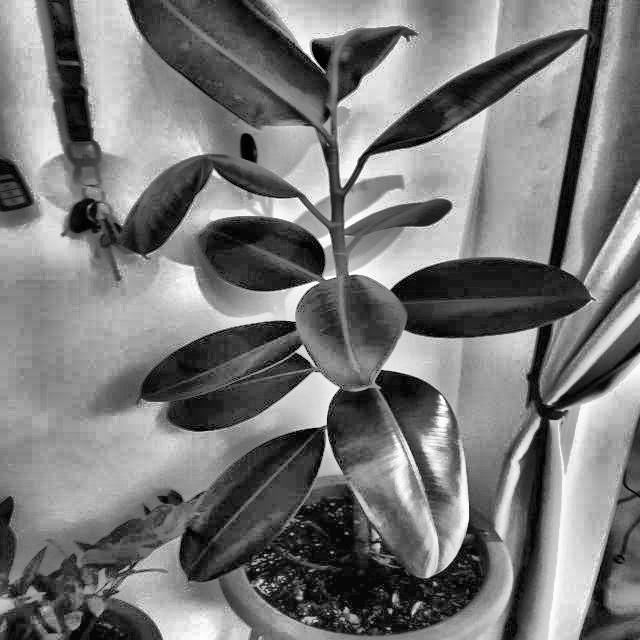plants: (154, 59, 544, 552), (27, 512, 190, 640)
